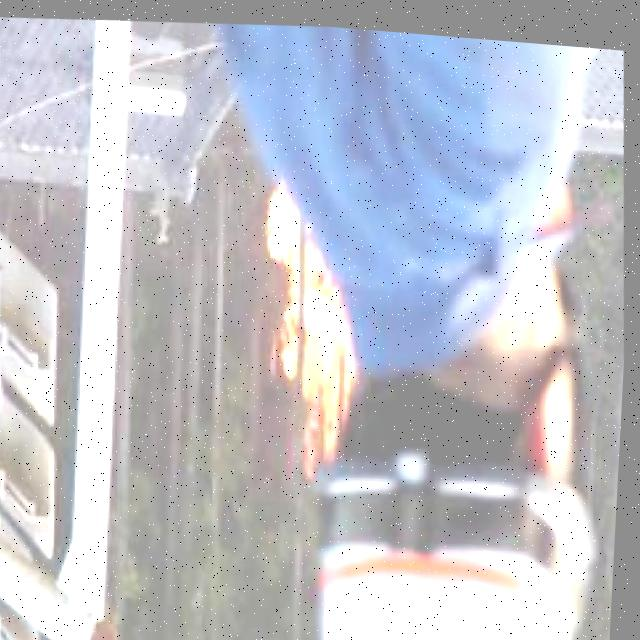Fire: (252, 180, 358, 448)
